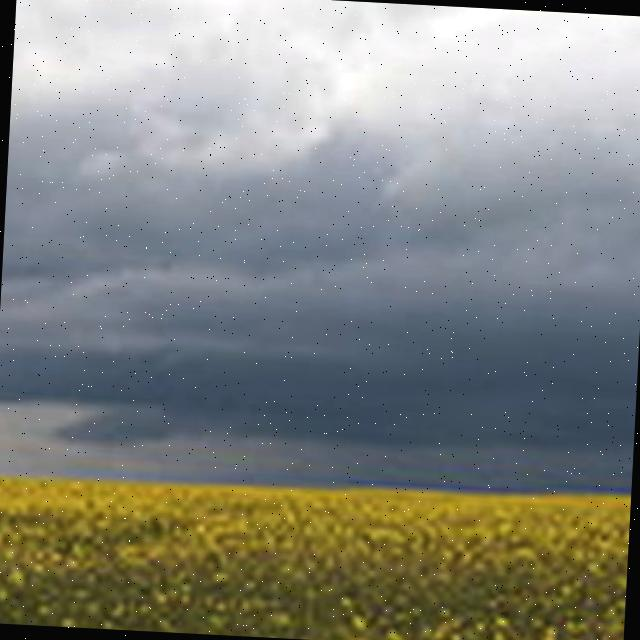As: (1, 21, 640, 474)
